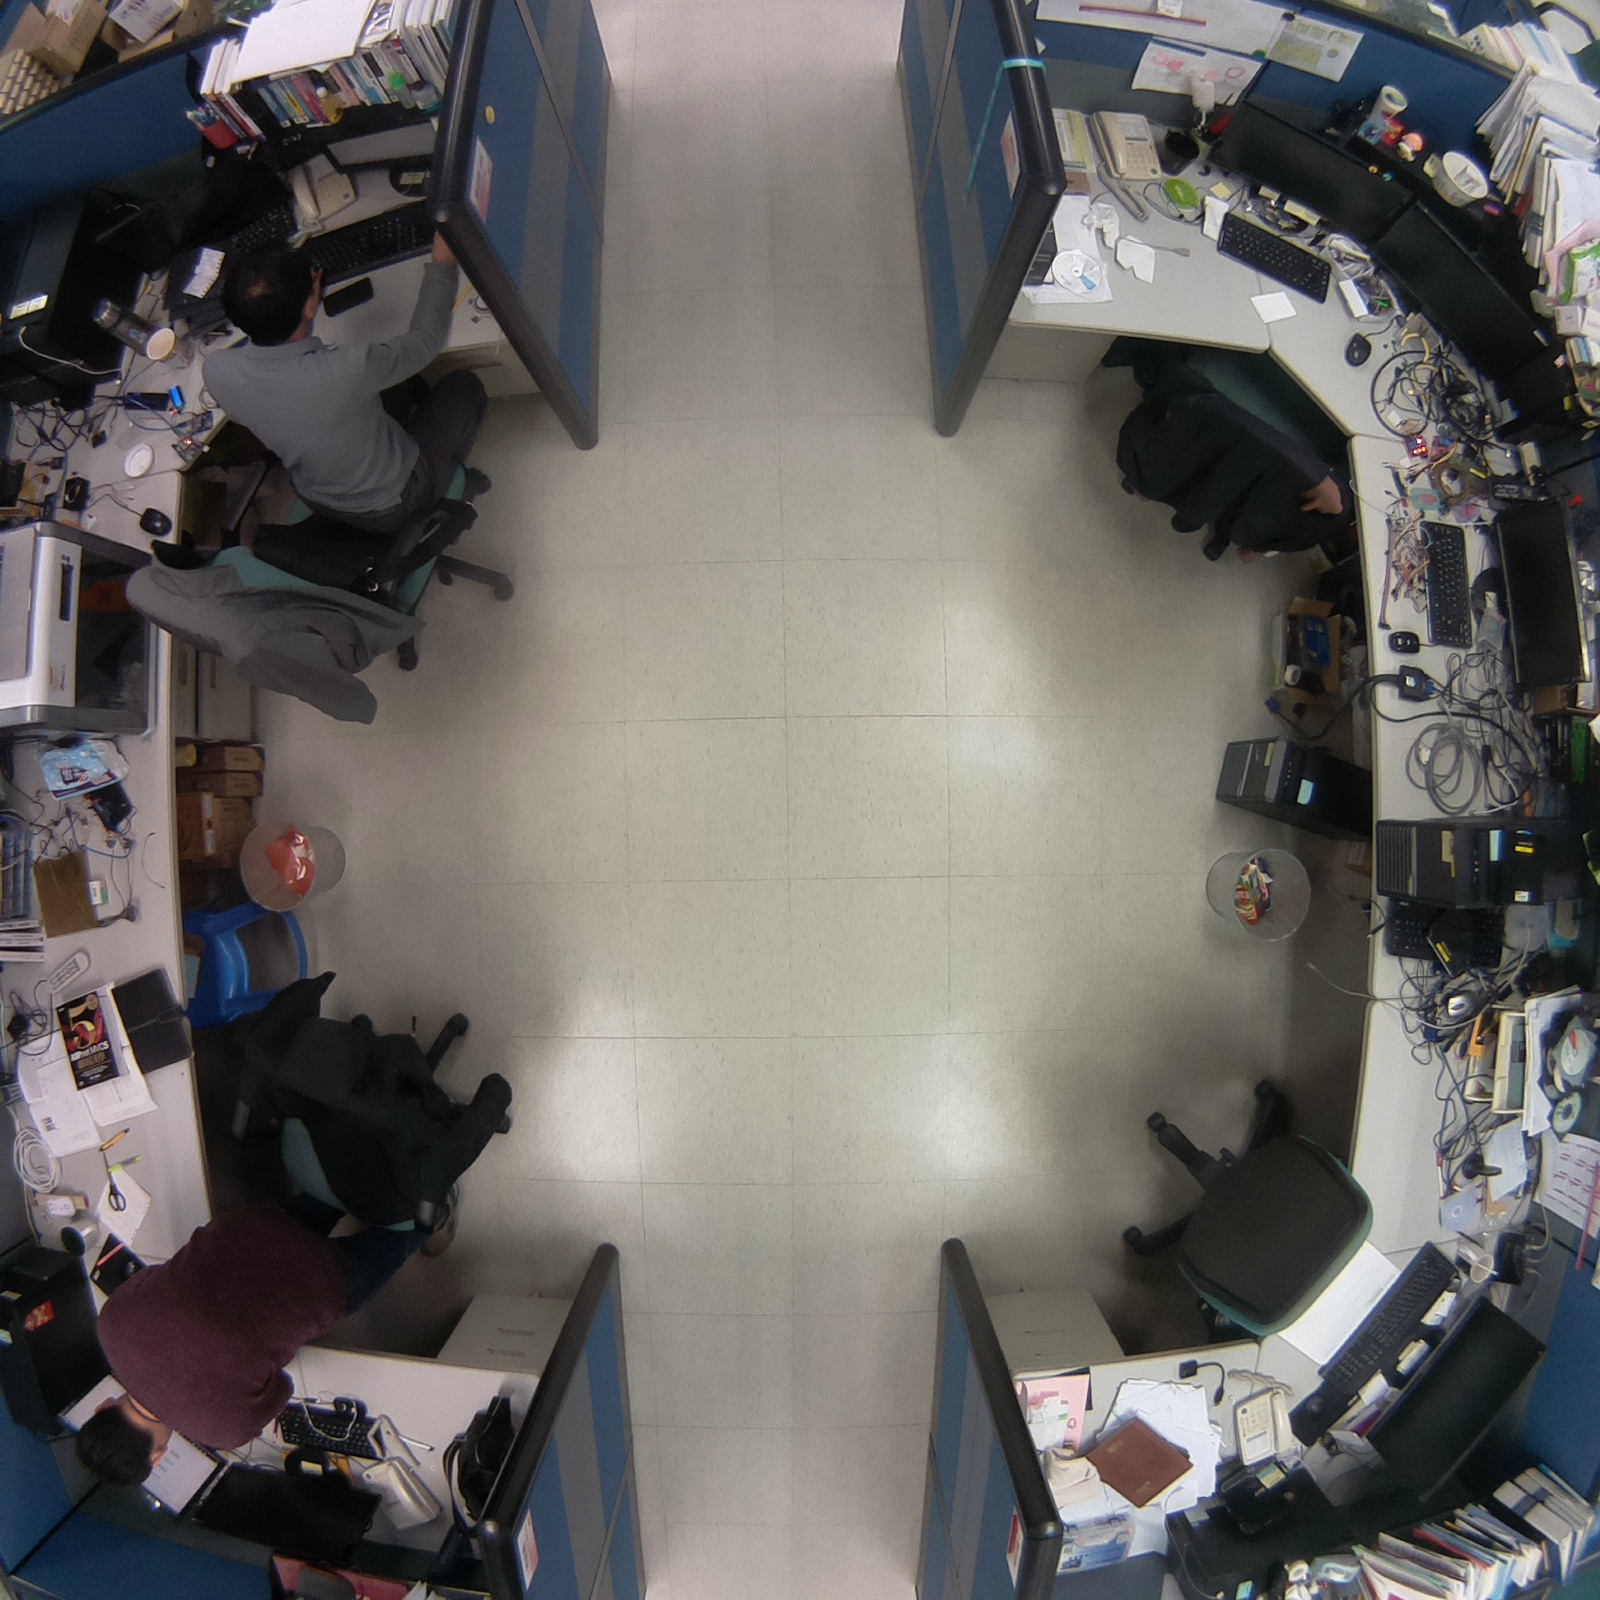chair: (199, 968, 533, 1248), (1111, 1058, 1385, 1358), (1095, 318, 1380, 580)
sitting: (182, 223, 514, 549)
standing: (56, 1200, 369, 1502)
